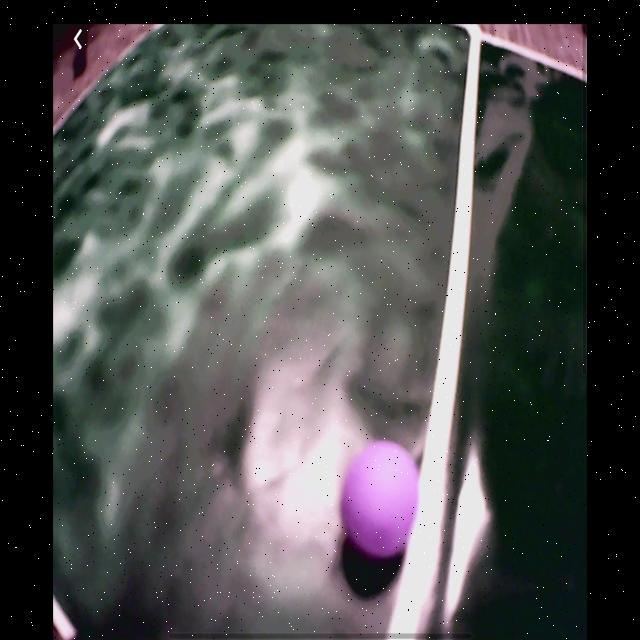ball: (340, 441, 421, 562)
